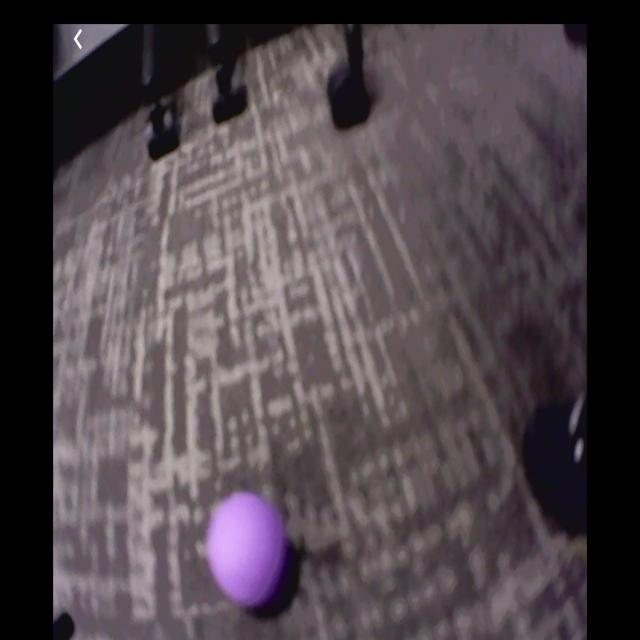ball: (210, 494, 285, 602)
